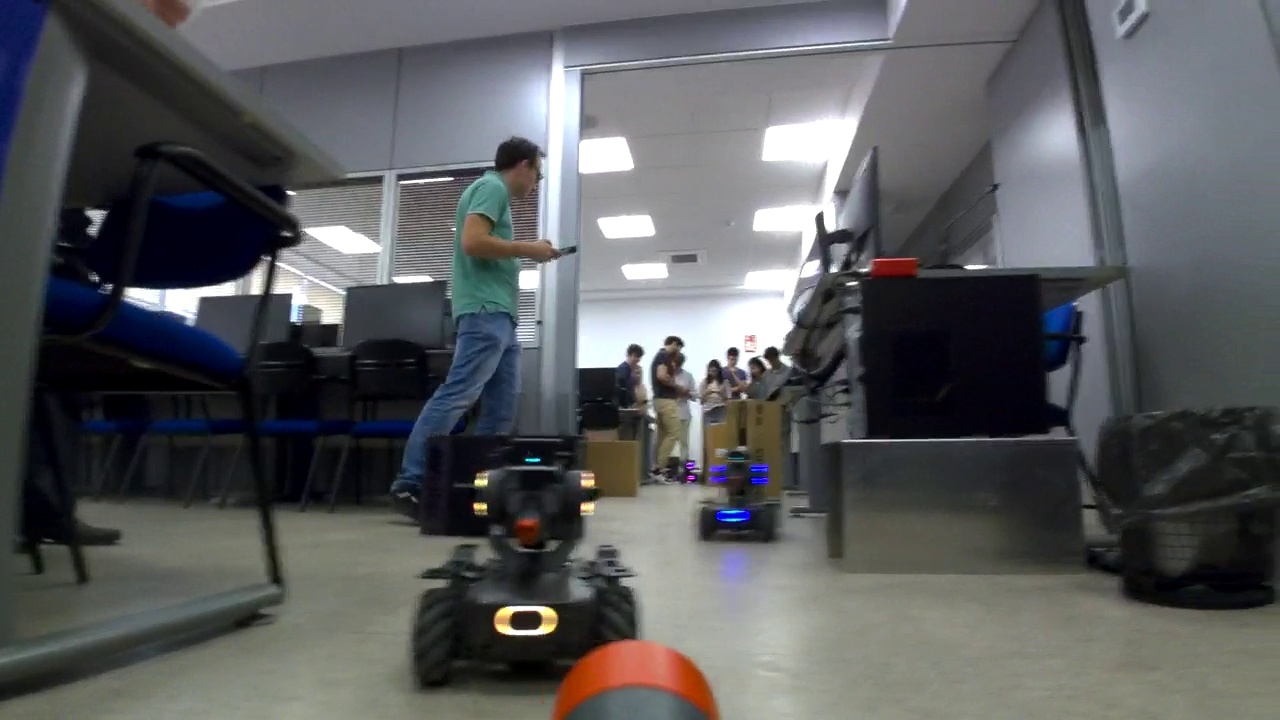robot: (424, 466, 629, 692), (699, 455, 779, 542), (682, 458, 700, 485)
